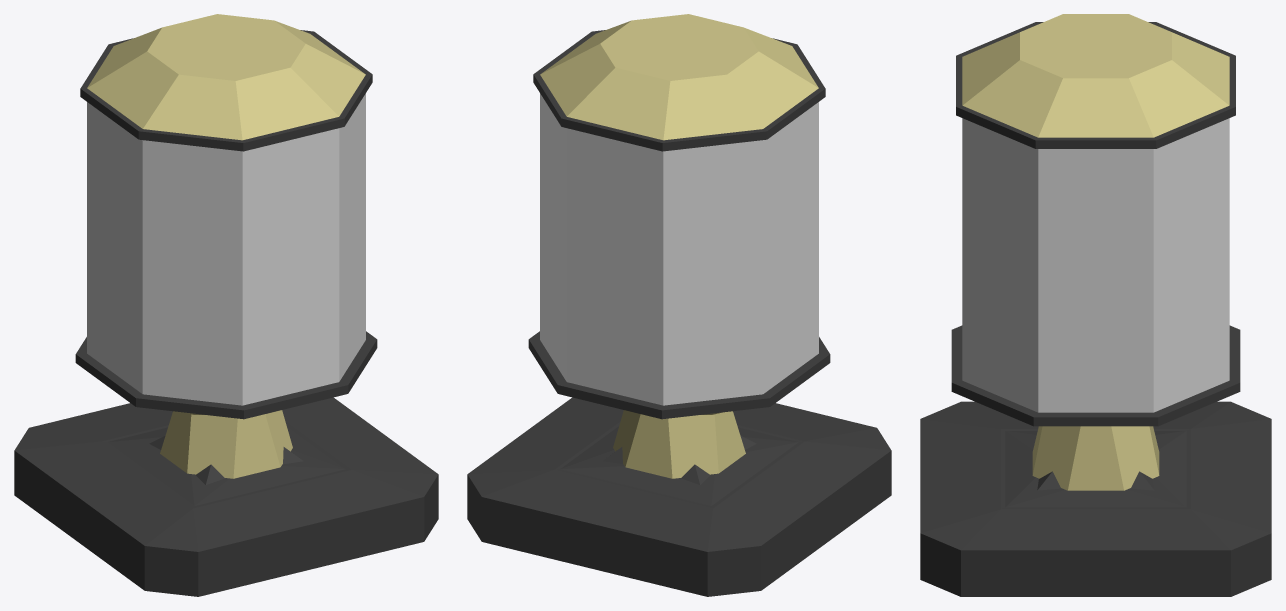
The model's file is WarningLight2.fbx.
3 renders of one model, left to right at view 1: azimuth 30°, elevation 25°; view 2: azimuth 150°, elevation 25°; view 3: azimuth 270°, elevation 25°, orthographic. The views are drawn at different scales.
Visible parts, largest first — view 1: Cube; view 2: Cube; view 3: Cube.
Boxes of the visible parts, <box> form: Cube: <box>14,14,438,596</box>; Cube: <box>467,14,891,596</box>; Cube: <box>920,14,1271,596</box>.
Bounding box in the file's own units: 59.65 × 90.54 × 59.65.
